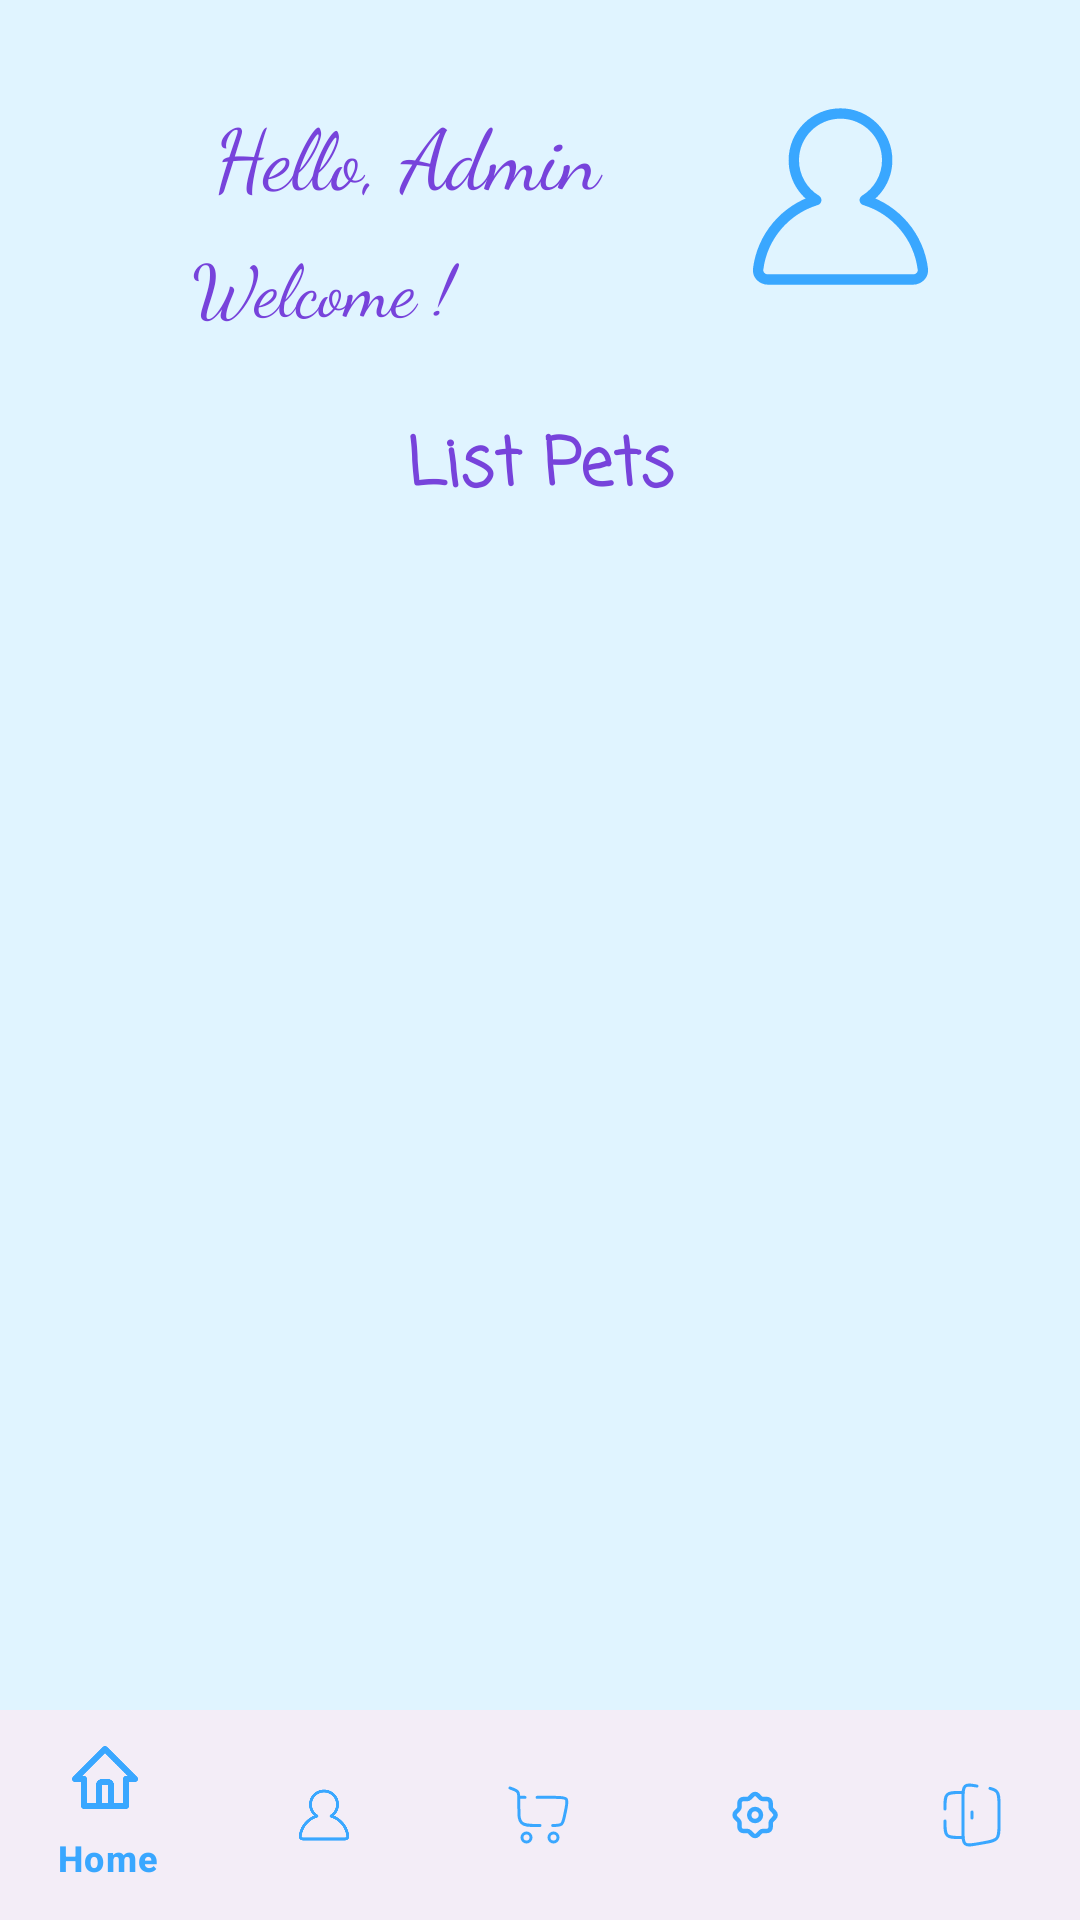

Where icons sit on this 1080*1920 app screen, as (x1, y1, x2, y2):
profile: (753, 108, 928, 285)
